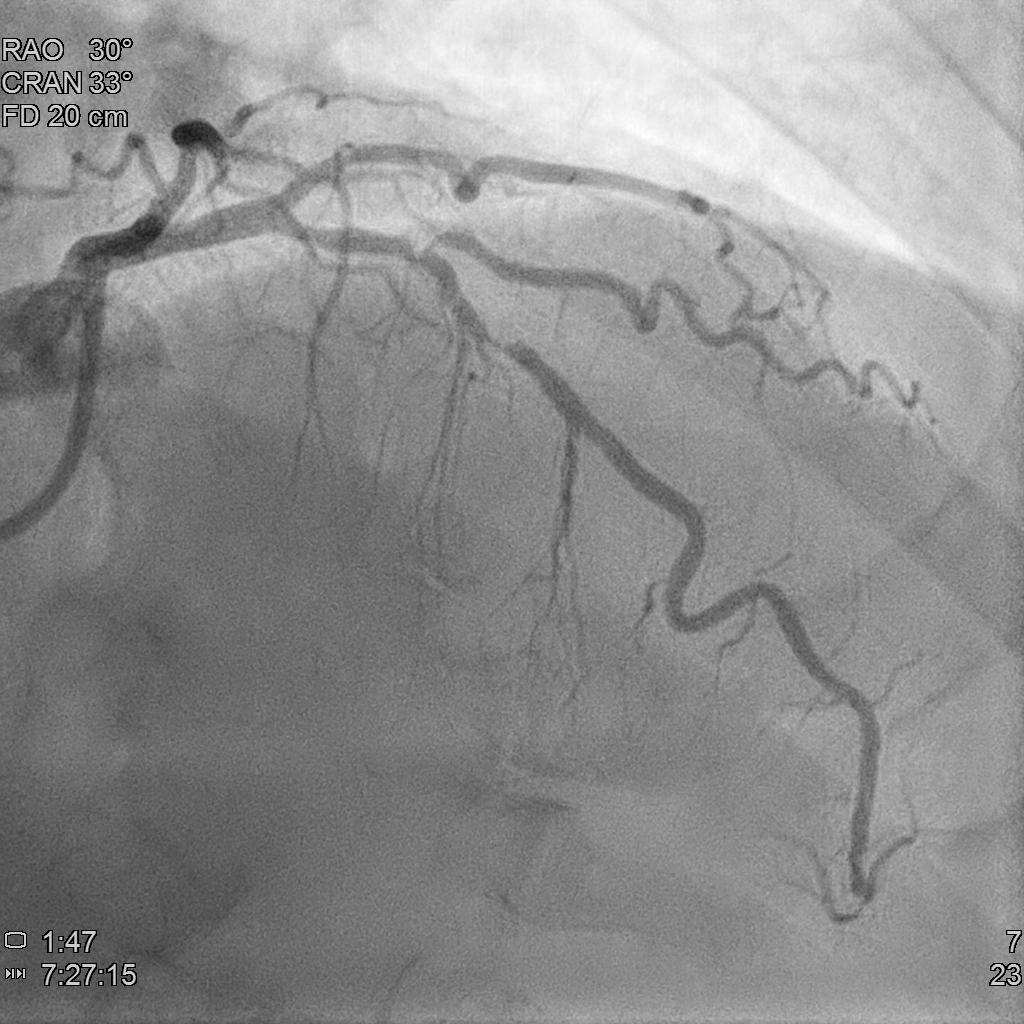block: (450, 300, 549, 382)
